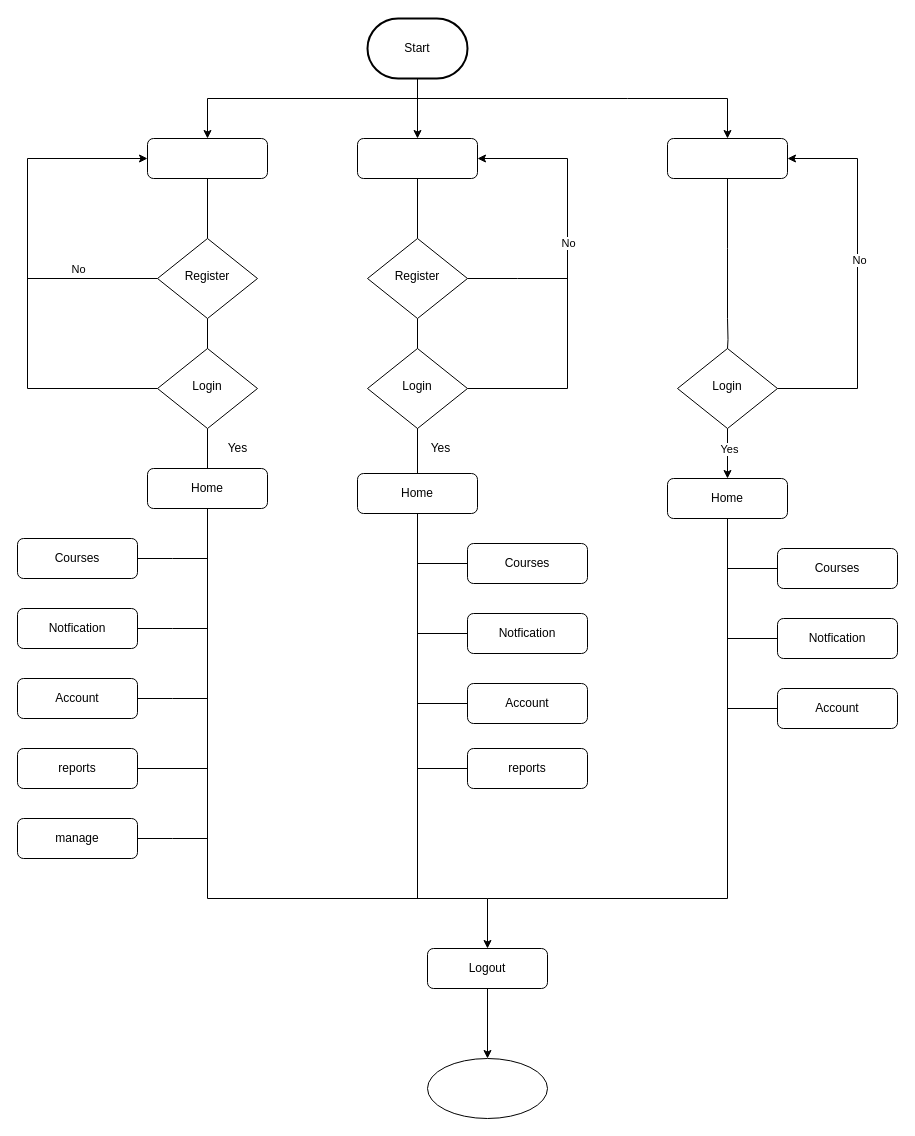
Some shapes in this 915 by 1136 pixel diagram are drawn without their labels. The box of each missing label's shape, as (x1, y1, x2, y2) in pixels:
Admin: (146, 138, 268, 178)
End: (426, 1058, 548, 1118)
Student: (356, 138, 478, 178)
Tutor: (666, 138, 788, 178)
